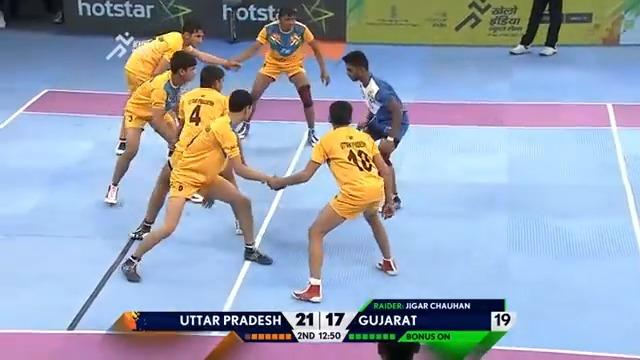Player: (120, 71, 284, 282), (265, 99, 399, 303), (114, 19, 241, 155), (226, 6, 330, 147), (104, 50, 198, 205)
Raider: (340, 49, 410, 210)
referee: (508, 0, 563, 56), (41, 0, 64, 24)
